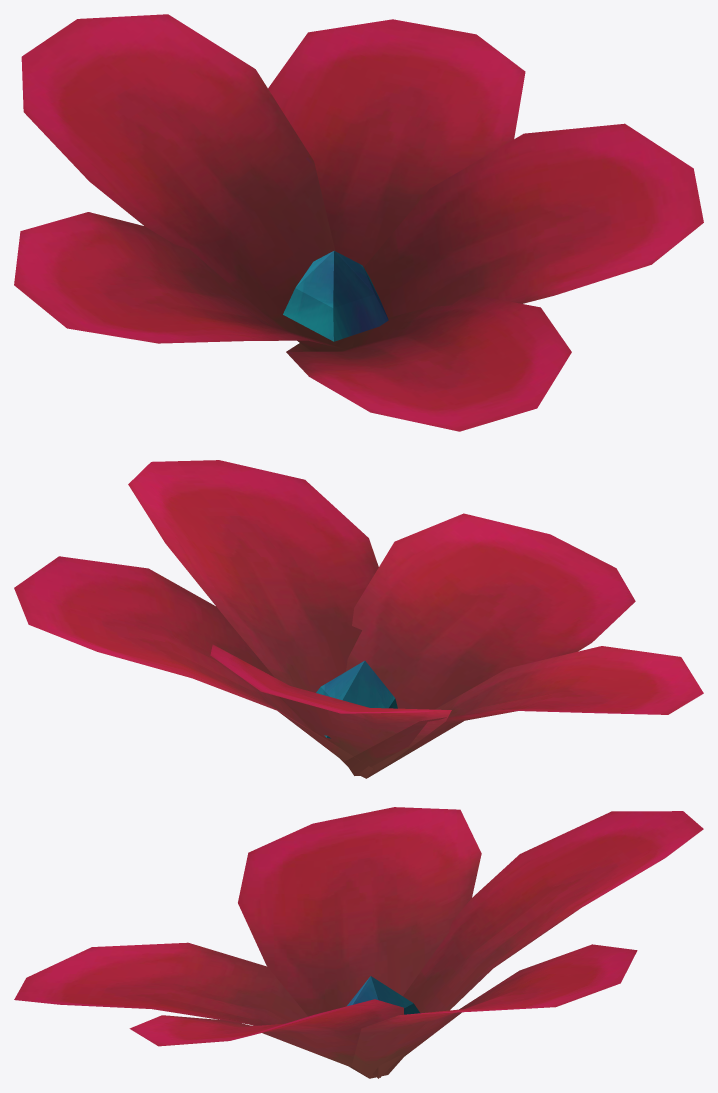
Rendered from VEG0310019.fbx.
3 renders of one model, top to bottom at view 1: azimuth 30°, elevation 25°; view 2: azimuth 150°, elevation 25°; view 3: azimuth 270°, elevation 25°, orthographic. The views are drawn at different scales.
Visible parts, largest first — view 1: smVEG0310019; view 2: smVEG0310019; view 3: smVEG0310019.
Part boxes in pixels (box(x1,y1,x2,y2)): smVEG0310019: box(14, 14, 703, 431); smVEG0310019: box(14, 460, 703, 778); smVEG0310019: box(14, 807, 703, 1078).
Size of the model in its own units: 7.48 by 2.81 by 8.12.
Materials: 1 (1 with a texture image).
